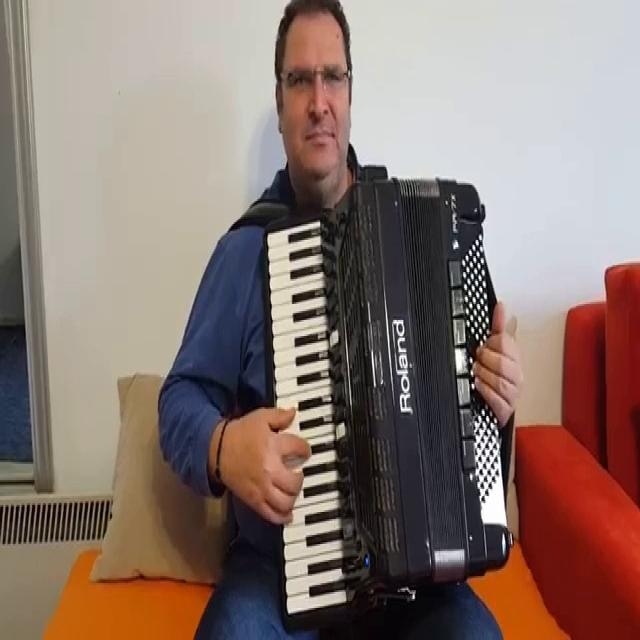Accordion: (265, 176, 514, 609)
